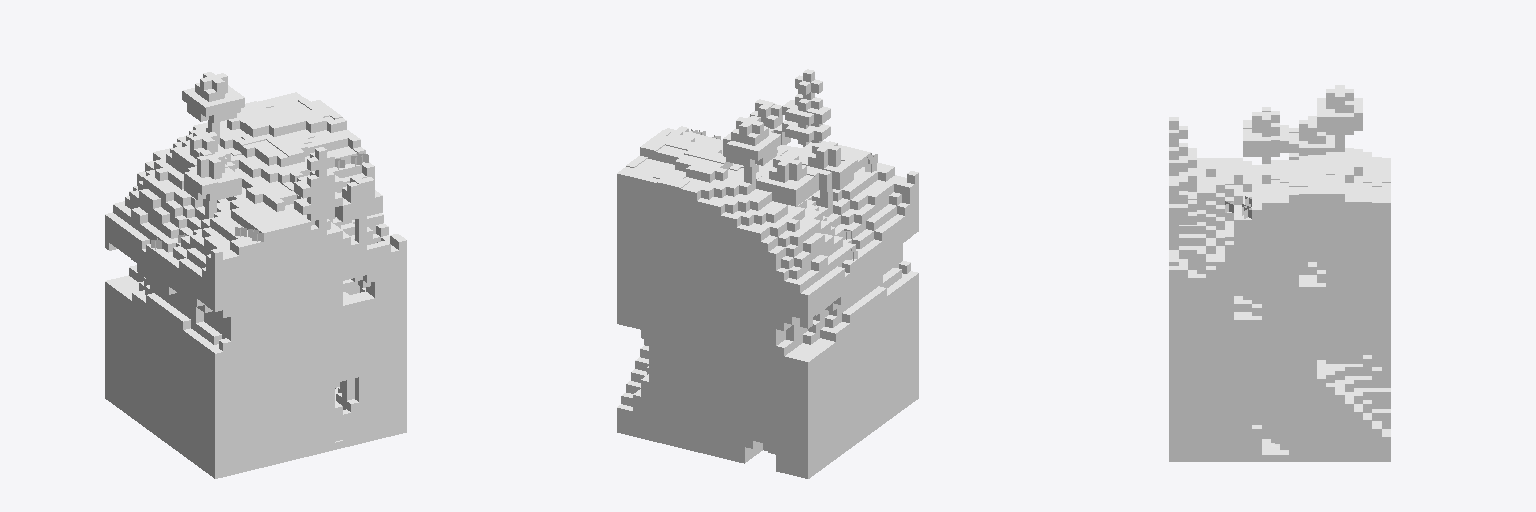
3 views of the same model, side by side, from view 1: azimuth 30°, elevation 25°; view 2: azimuth 150°, elevation 25°; view 3: azimuth 270°, elevation 25° (orthographic).
Visible parts, largest first — view 1: New_World_(1)__114_62_276_to_137_255_299; view 2: New_World_(1)__114_62_276_to_137_255_299; view 3: New_World_(1)__114_62_276_to_137_255_299.
Part boxes in pixels (left/top/right/bottom): New_World_(1)__114_62_276_to_137_255_299: left=105, top=72, right=406, bottom=478; New_World_(1)__114_62_276_to_137_255_299: left=617, top=69, right=918, bottom=478; New_World_(1)__114_62_276_to_137_255_299: left=1169, top=85, right=1390, bottom=461.
Bounding box in the file's own units: 24 × 38.12 × 24.03.